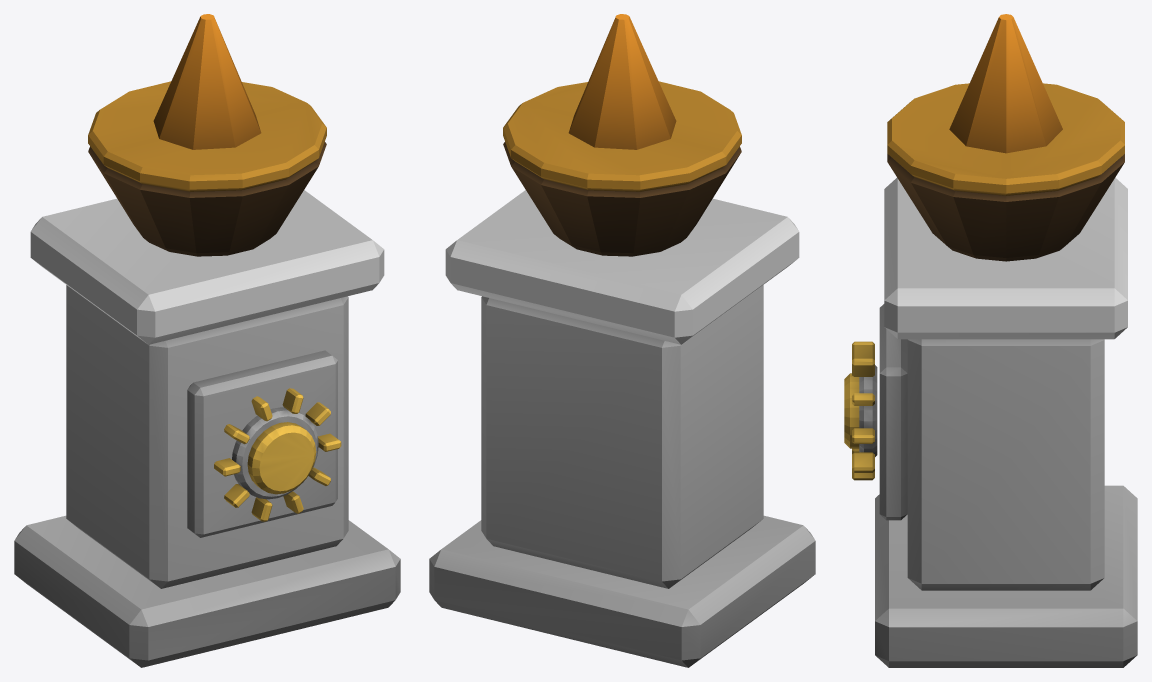
File: HeroBrazierPillar.fbx
3 views of the same model, side by side, from view 1: azimuth 30°, elevation 25°; view 2: azimuth 150°, elevation 25°; view 3: azimuth 270°, elevation 25° (orthographic).
Visible parts, largest first — view 1: HeroBrazierPillar__Limestone, HeroBrazierPillar__Paint, HeroBrazierPillar__Ember; view 2: HeroBrazierPillar__Limestone, HeroBrazierPillar__Paint, HeroBrazierPillar__Ember; view 3: HeroBrazierPillar__Limestone, HeroBrazierPillar__Paint, HeroBrazierPillar__Ember.
Part boxes in pixels (x1=…): HeroBrazierPillar__Limestone: x1=14, y1=190, x2=400, y2=667; HeroBrazierPillar__Paint: x1=88, y1=81, x2=341, y2=521; HeroBrazierPillar__Ember: x1=153, y1=14, x2=261, y2=149; HeroBrazierPillar__Limestone: x1=429, y1=190, x2=815, y2=667; HeroBrazierPillar__Paint: x1=503, y1=81, x2=741, y2=256; HeroBrazierPillar__Ember: x1=568, y1=14, x2=676, y2=149; HeroBrazierPillar__Limestone: x1=859, y1=177, x2=1137, y2=667; HeroBrazierPillar__Paint: x1=844, y1=83, x2=1124, y2=480; HeroBrazierPillar__Ember: x1=949, y1=14, x2=1062, y2=153.
Bounding box in the file's own units: 0.68 × 1.39 × 0.625.
